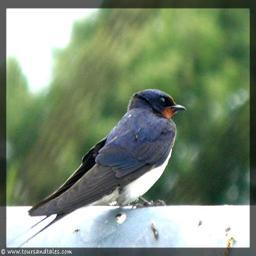Swallow: (8, 88, 187, 255)
